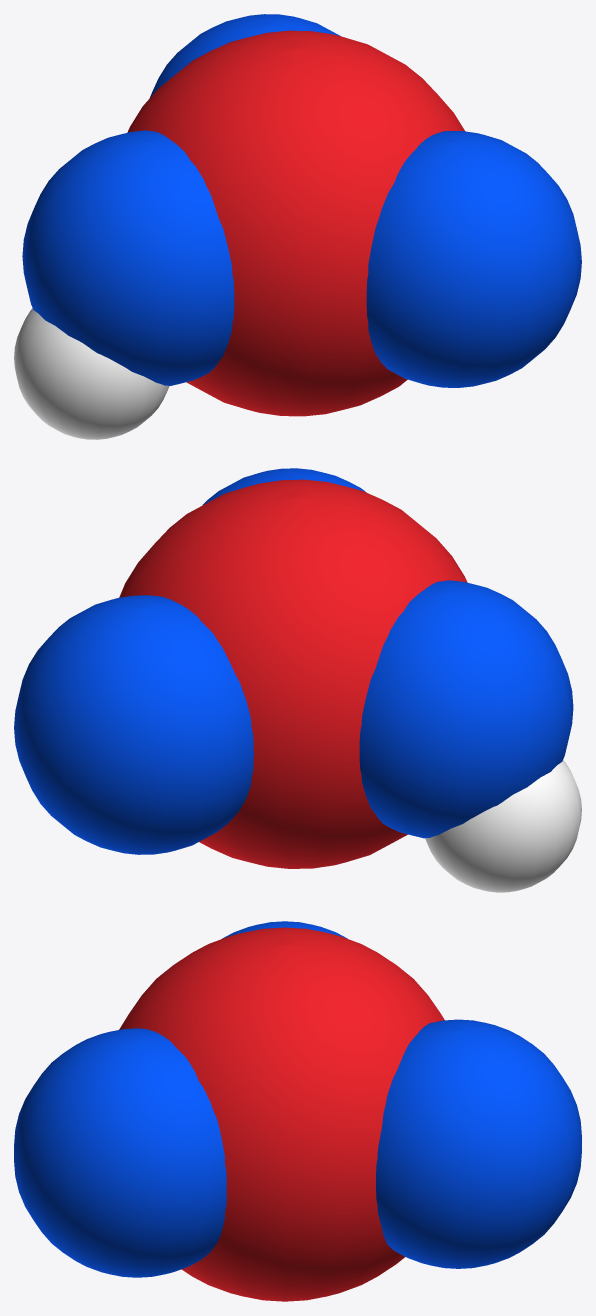
Rendered from HClO3.fbx.
3 renders of one model, top to bottom at view 1: azimuth 30°, elevation 25°; view 2: azimuth 150°, elevation 25°; view 3: azimuth 270°, elevation 25°, orthographic. The views are drawn at different scales.
Parts seen in each view (by area): view 1: Сферы_Node (×5); view 2: Сферы_Node (×5); view 3: Сферы_Node (×4).
Boxes of the visible parts, bbox=[...] form: Сферы_Node (×5): bbox=[14, 14, 581, 439]; Сферы_Node (×5): bbox=[14, 468, 581, 892]; Сферы_Node (×4): bbox=[14, 921, 581, 1301].
Size of the model in its own units: 3.33 by 2.4 by 3.64.
3 materials, 3 textured.
